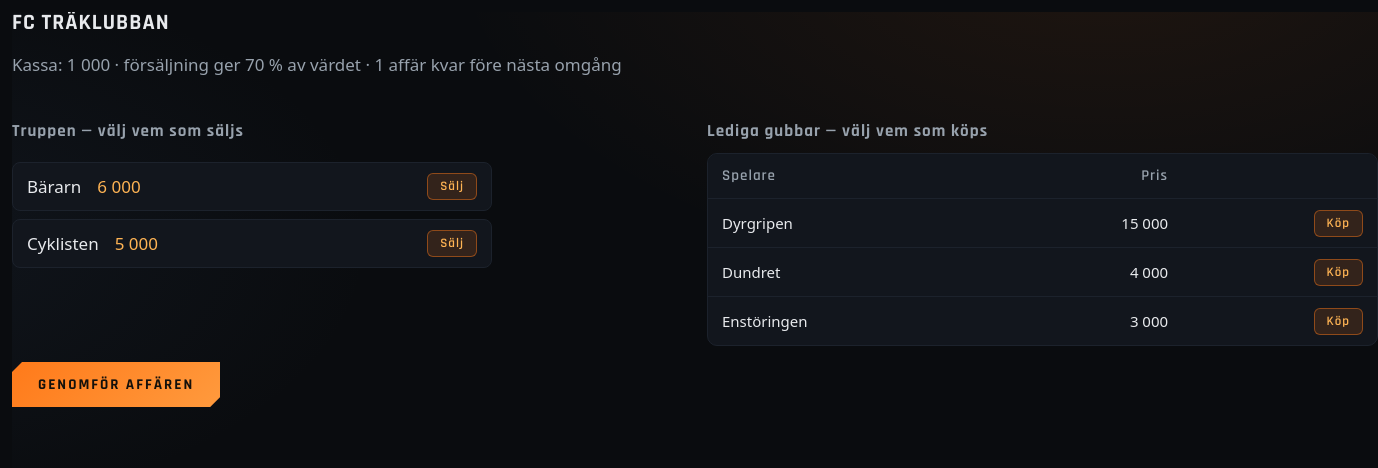
TransferDesk › refuses a deal the funds do not cover
The image size is (1378, 468).
What coordinates should you click on to do the following:
click the button "Sälj" in the row of "Cyklisten"
I would click on:
 (452, 244)
Its box is [427,230,477,258].
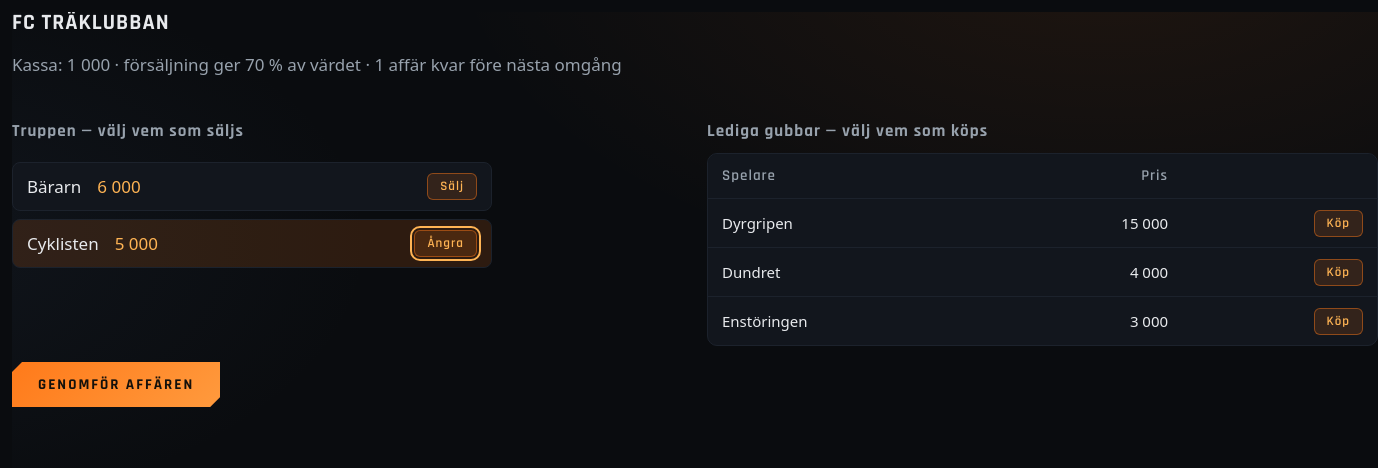
What coordinates should you click on to do the following:
click the button "Köp" in the row of "Dyrgripen"
I would click on:
 (1338, 224)
Its box is [1314,210,1363,237].
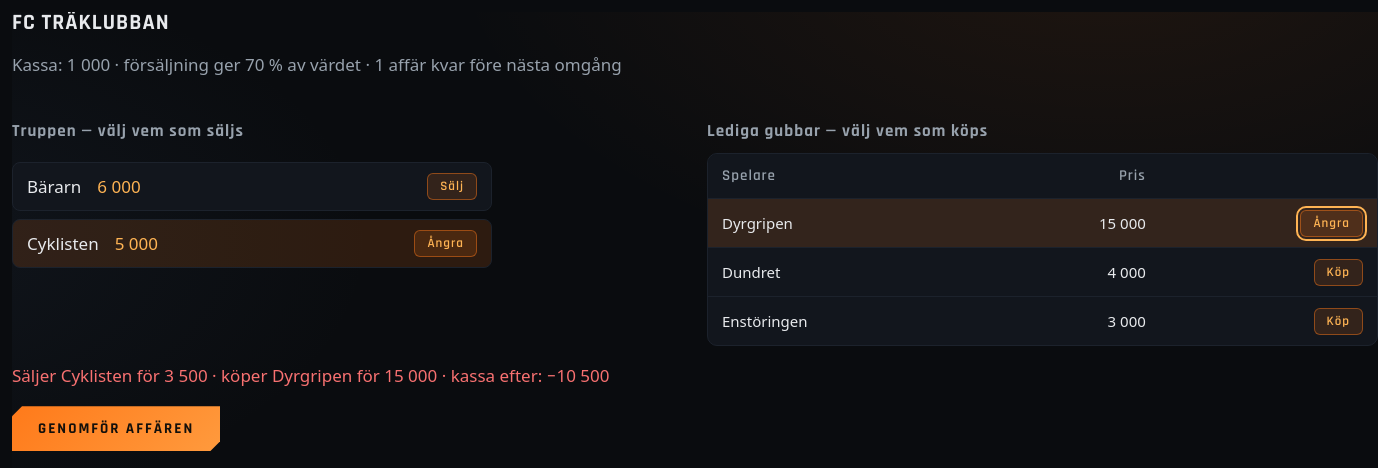
Check: the button "Genomför affären" is disabled, box [12,406,220,451]
Check: the text "kassa efter" shows "kassa efter: −10 500", box [12,364,610,387]
